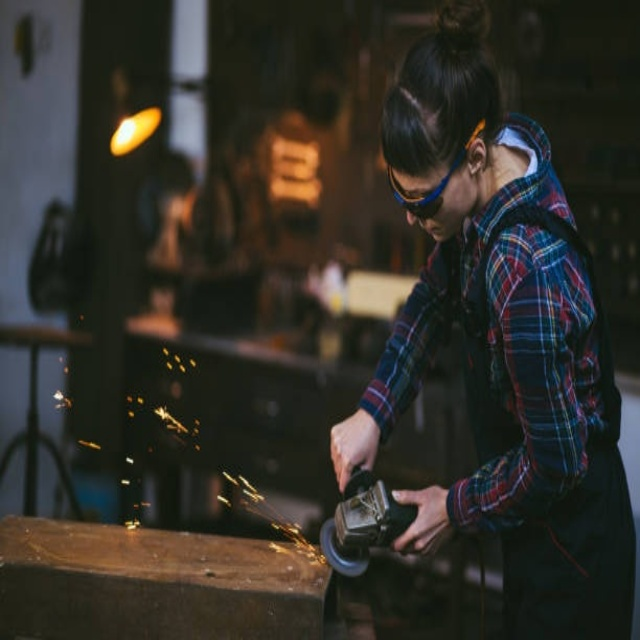Gafas: (388, 114, 485, 218)
Sin_guantes: (388, 482, 452, 555), (328, 409, 379, 492)
Sin_mascara: (409, 210, 448, 245)
